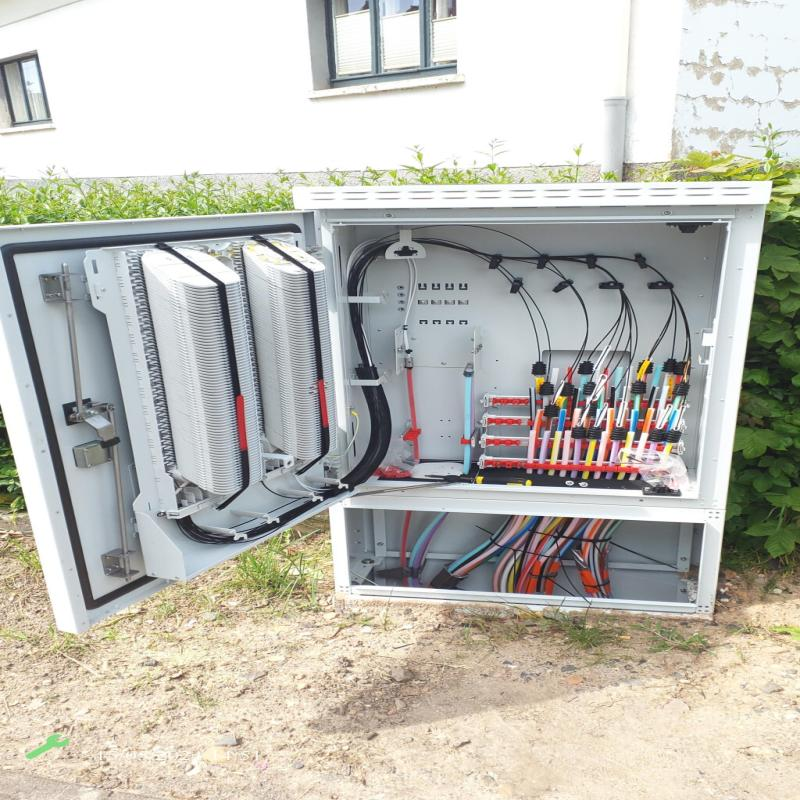NT-Gehause: (0, 181, 770, 634)
Spleiskassetten: (123, 243, 273, 496), (229, 237, 342, 463)
